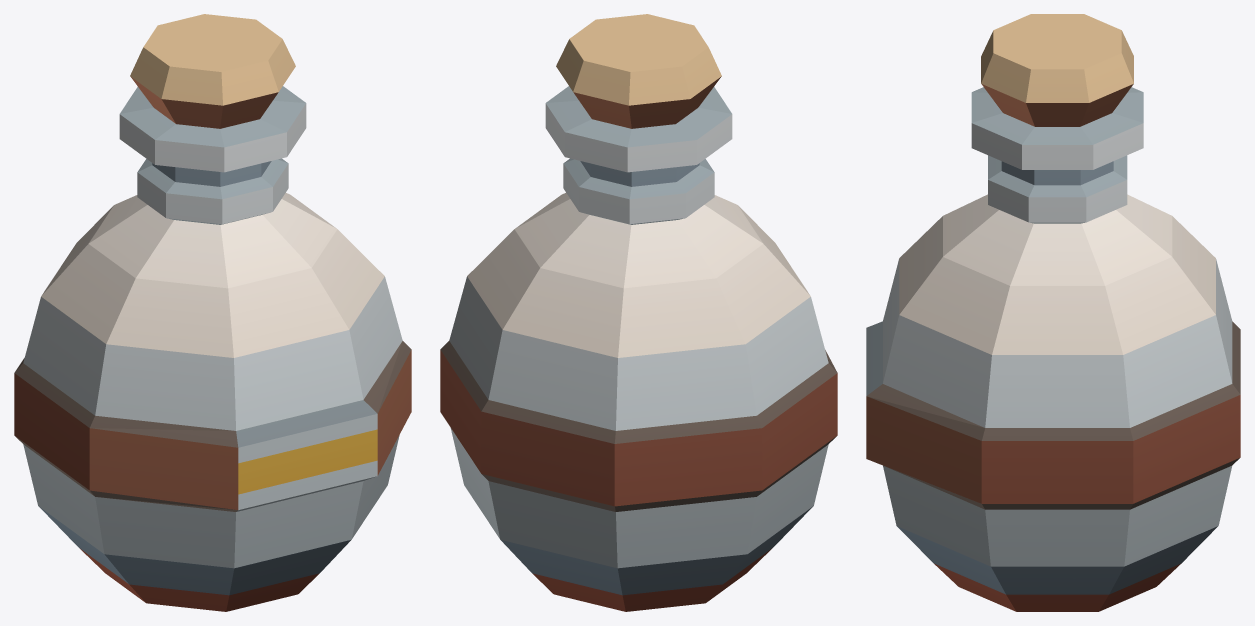
Rendered from source.glb.
3 views of the same model, side by side, from view 1: azimuth 30°, elevation 25°; view 2: azimuth 150°, elevation 25°; view 3: azimuth 270°, elevation 25° (orthographic).
Parts seen in each view (by area): view 1: model; view 2: model; view 3: model.
Boxes of the visible parts, left/top/right/bottom form: model: left=14, top=14, right=411, bottom=611; model: left=440, top=14, right=837, bottom=611; model: left=866, top=14, right=1240, bottom=611.
Bounding box in the file's own units: 0.72 × 1.12 × 0.72.
1 material, 1 textured.
